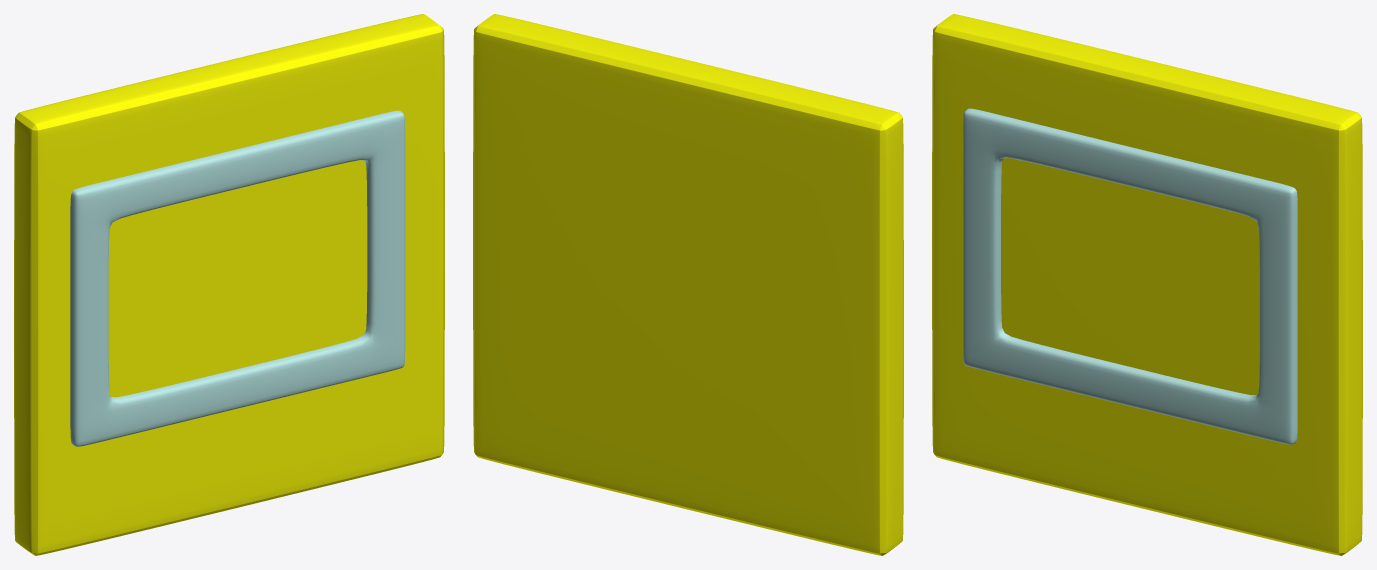
3 renders of one model, left to right at view 1: azimuth 30°, elevation 25°; view 2: azimuth 150°, elevation 25°; view 3: azimuth 330°, elevation 25°, orthographic.
Visible parts, largest first — view 1: polySurface1292; view 2: polySurface1292; view 3: polySurface1292.
Boxes of the visible parts, x1,y1,x2,y2 form: polySurface1292: (14, 14, 444, 555); polySurface1292: (473, 14, 903, 555); polySurface1292: (932, 14, 1362, 555).
Bounding box in the file's own units: 0.9995 × 0.9995 × 0.1199.
